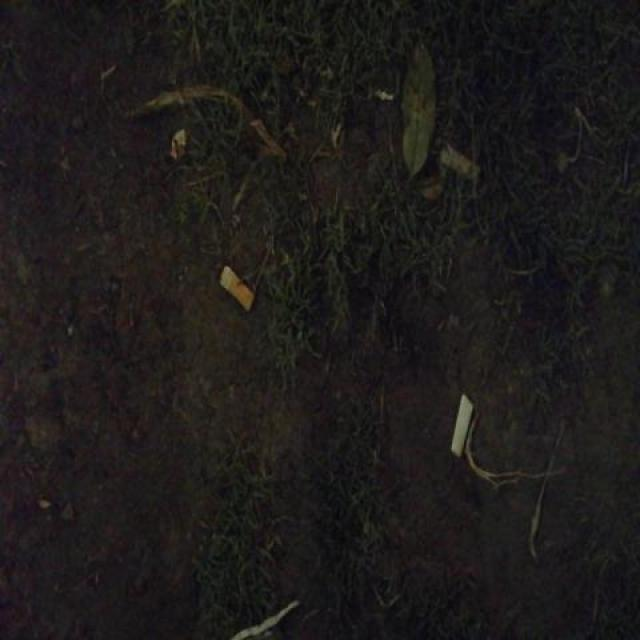non-organic waste: (214, 259, 257, 318), (436, 139, 484, 188), (448, 387, 476, 460)
